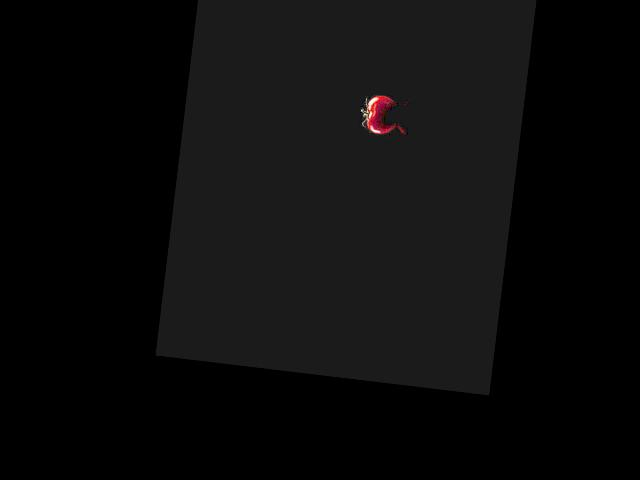tomato: (363, 93, 398, 135)
